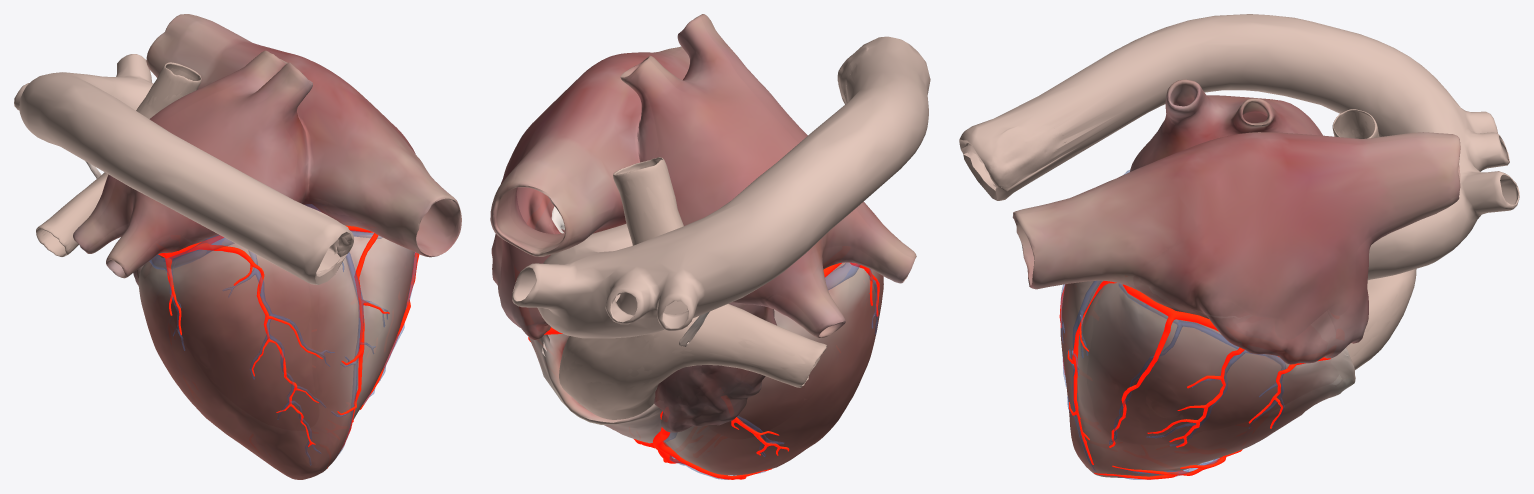
Rendered from heartCompressed.glb.
3 views of the same model, side by side, from view 1: azimuth 30°, elevation 25°; view 2: azimuth 150°, elevation 25°; view 3: azimuth 270°, elevation 25° (orthographic). The views are drawn at different scales.
Visible parts, largest first — view 1: Hart_basis, Aorta, Veins, Pulmonary_trunk, Arteries2; view 2: Hart_basis, Aorta, Pulmonary_trunk, Heartear, Arteries2, Veins; view 3: Hart_basis, Aorta, Arteries2, Pulmonary_trunk, Veins.
Boxes of the visible parts, x1,y1,x2,y2 form: Hart_basis: (73,14,461,479); Aorta: (14,54,353,284); Veins: (149,204,417,465); Pulmonary_trunk: (36,62,201,256); Arteries2: (158,225,419,468); Hart_basis: (490,14,916,475); Aorta: (512,36,930,338); Pulmonary_trunk: (559,157,827,419); Heartear: (654,302,776,432); Arteries2: (528,262,879,479); Veins: (663,263,877,479); Hart_basis: (1012,79,1460,478); Aorta: (959,14,1519,280); Arteries2: (1059,281,1330,479); Pulmonary_trunk: (1332,109,1416,369); Veins: (1060,170,1285,479).
Bounding box in the file's own units: 302 × 336 × 418.
